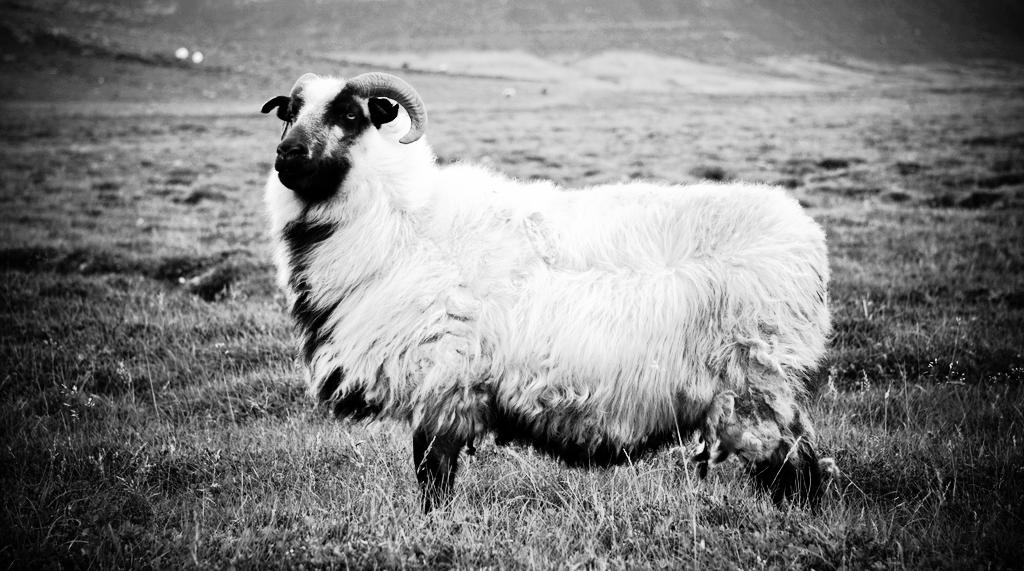Sheep: (262, 72, 823, 516)
